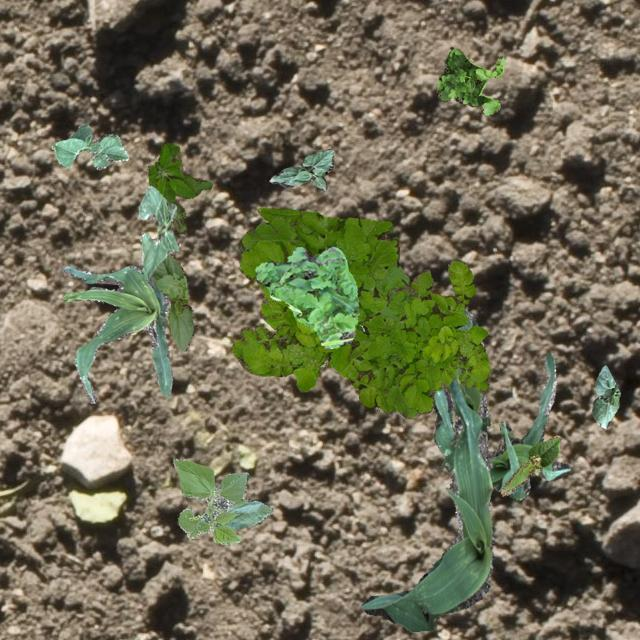crop: (361, 306, 494, 630), (432, 352, 570, 498), (62, 264, 172, 402), (172, 458, 272, 544), (150, 252, 194, 351), (138, 184, 178, 278), (500, 434, 560, 494), (51, 122, 128, 168), (268, 148, 334, 190), (590, 363, 620, 428)
weed: (232, 207, 414, 410), (354, 258, 491, 418), (254, 245, 356, 348), (147, 142, 210, 232), (436, 46, 504, 114)
